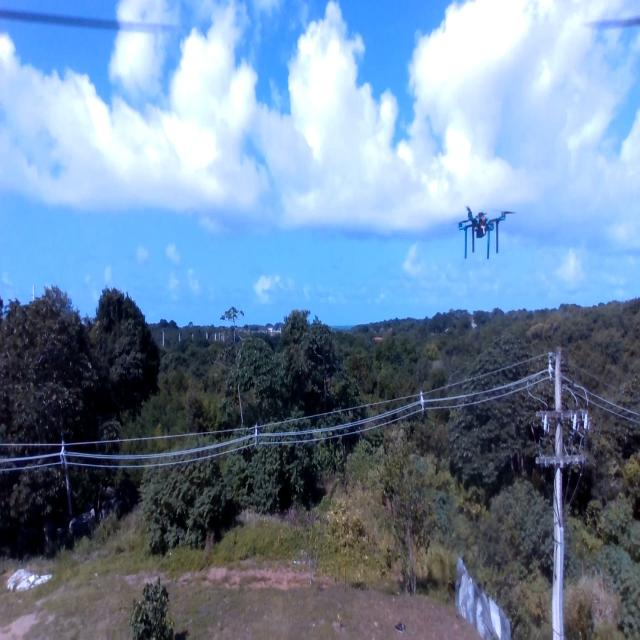-uav-: (452, 196, 519, 283)
